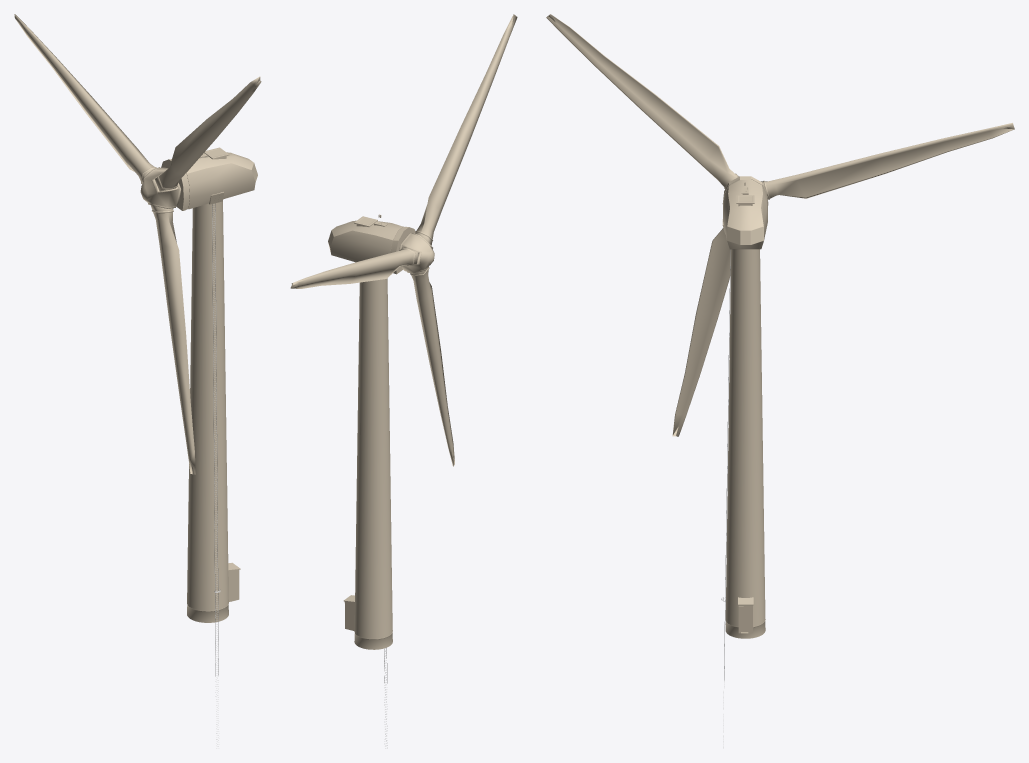
Rendered from Wind Turbine.fbx.
The picture shows the model from 3 angles, left to right: view 1: azimuth 30°, elevation 25°; view 2: azimuth 150°, elevation 25°; view 3: azimuth 270°, elevation 25°; orthographic projection. The views are drawn at different scales.
Visible parts, largest first — view 1: base, wing 3, body, wing 1, wing 2, details3, axis, details2; view 2: base, wing 2, body, wing 3, wing 1, axis; view 3: base, wing 1, wing 2, wing 3, body.
Boxes of the visible parts, x1,y1,x2,y2 form: base: [187, 201, 228, 622]; wing 3: [151, 205, 195, 474]; body: [161, 152, 257, 210]; wing 1: [14, 14, 156, 183]; wing 2: [155, 76, 261, 191]; details3: [212, 203, 218, 748]; axis: [140, 167, 180, 208]; details2: [228, 562, 240, 601]; base: [354, 278, 392, 649]; wing 2: [415, 14, 517, 245]; body: [328, 220, 415, 274]; wing 3: [410, 266, 454, 466]; wing 1: [290, 247, 418, 288]; axis: [399, 233, 434, 273]; base: [725, 249, 765, 638]; wing 1: [761, 123, 1014, 199]; wing 2: [546, 14, 738, 188]; wing 3: [672, 228, 730, 436]; body: [722, 176, 768, 249].
Size of the model in its own units: 608 by 3865 by 2307.
